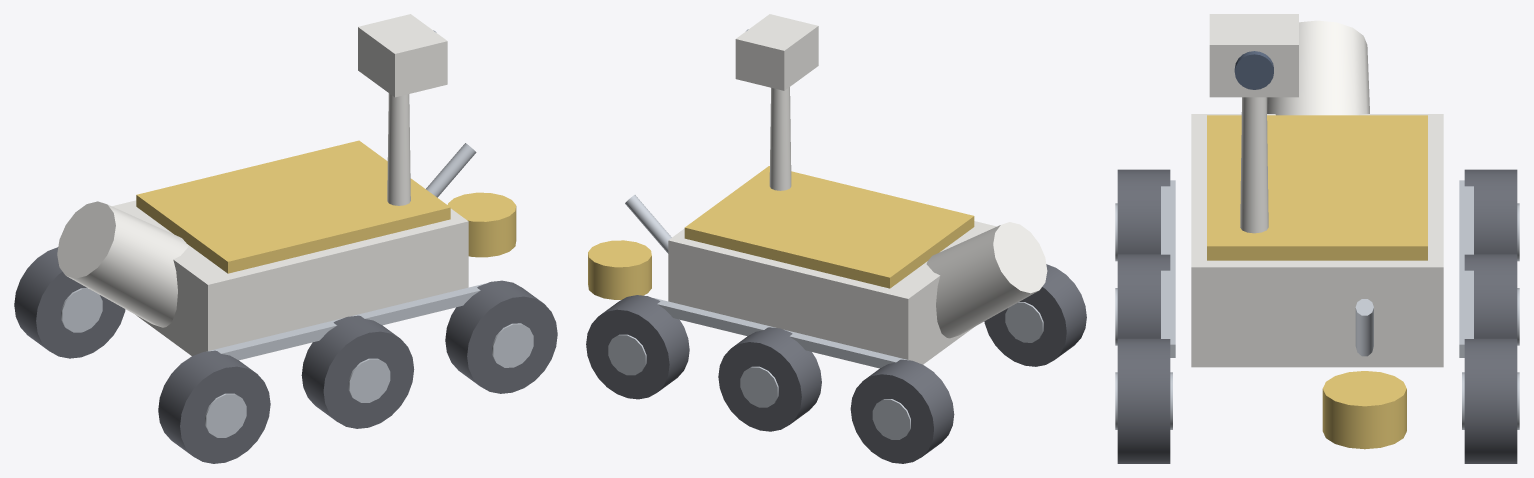
The model's file is mars-rover.glb.
3 renders of one model, left to right at view 1: azimuth 30°, elevation 25°; view 2: azimuth 150°, elevation 25°; view 3: azimuth 270°, elevation 25°, orthographic. The views are drawn at different scales.
Size of the model in its own units: 2.47 by 1.67 by 1.54.
